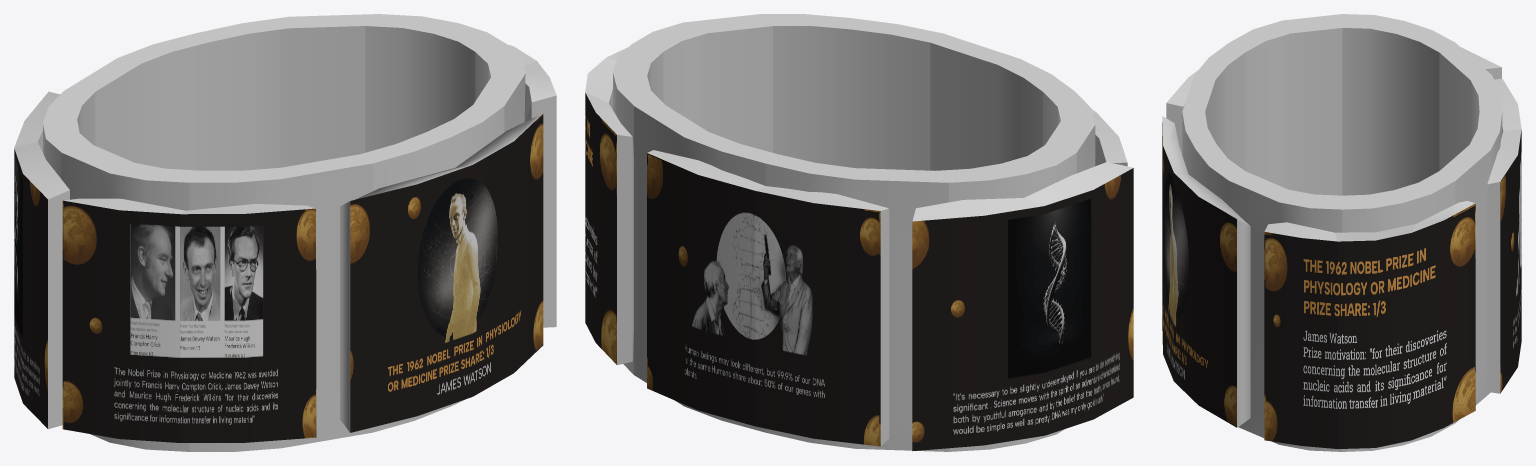
File: james watson1.fbx
3 views of the same model, side by side, from view 1: azimuth 30°, elevation 25°; view 2: azimuth 150°, elevation 25°; view 3: azimuth 270°, elevation 25° (orthographic). The views are drawn at different scales.
Visible parts, largest first — view 1: polySurface24, polySurface27, polySurface25, polySurface29; view 2: polySurface24, polySurface26, polySurface29, polySurface28; view 3: polySurface24, polySurface28, polySurface25, polySurface26.
Boxes of the visible parts, <box> form: polySurface24: <box>14,14,556,451</box>; polySurface27: <box>62,200,316,442</box>; polySurface25: <box>350,114,543,432</box>; polySurface29: <box>14,149,47,428</box>; polySurface24: <box>585,14,1133,451</box>; polySurface26: <box>647,153,880,446</box>; polySurface29: <box>912,168,1133,451</box>; polySurface28: <box>585,93,616,364</box>; polySurface24: <box>1162,14,1521,451</box>; polySurface28: <box>1264,203,1475,448</box>; polySurface25: <box>1162,122,1236,427</box>; polySurface26: <box>1500,130,1521,393</box>.
Bounding box in the file's own units: 8.15 × 4.12 × 5.54.
Materials: 6 (5 with a texture image).
